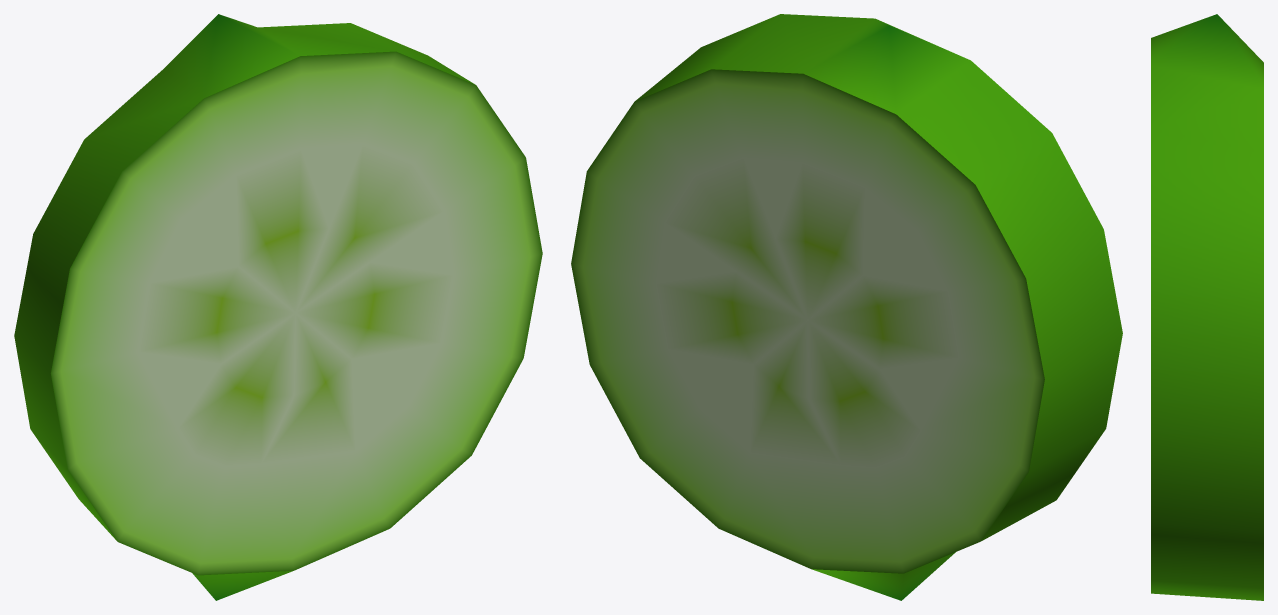
File: Cucumber_Slice_17.fbx
3 views of the same model, side by side, from view 1: azimuth 30°, elevation 25°; view 2: azimuth 150°, elevation 25°; view 3: azimuth 270°, elevation 25° (orthographic).
Visible parts, largest first — view 1: Cucumber_Slice_17; view 2: Cucumber_Slice_17; view 3: Cucumber_Slice_17.
Boxes of the visible parts, box(x1,y1,x2,y2) form: Cucumber_Slice_17: box(14, 14, 542, 600); Cucumber_Slice_17: box(571, 14, 1122, 600); Cucumber_Slice_17: box(1151, 14, 1263, 600).
Bounding box in the file's own units: 4.29 × 4.78 × 0.8586.
